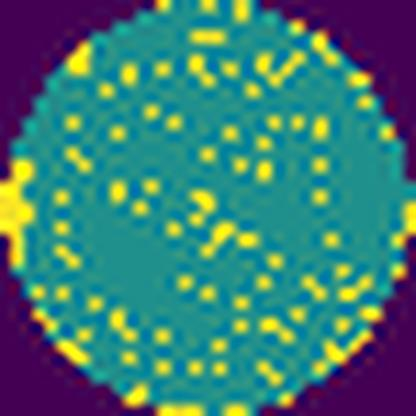Edge-Loc: (0, 157, 41, 279)
